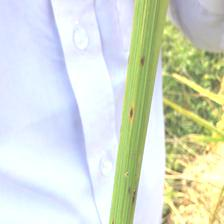0 BrownSpot: (127, 181, 137, 206), (126, 101, 136, 124), (137, 51, 149, 70)
